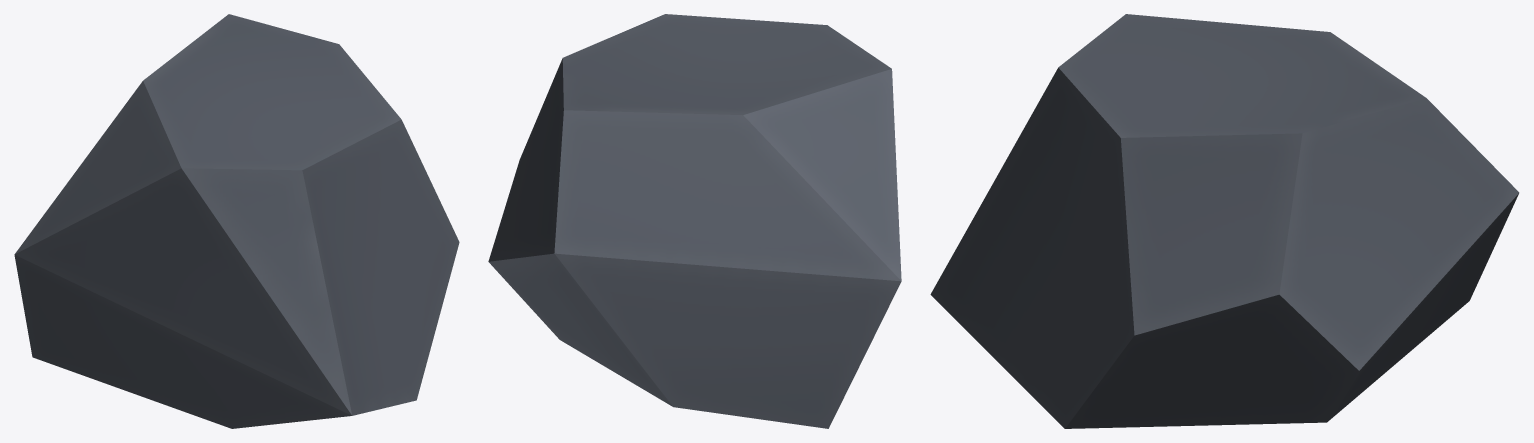
File: Rock2.fbx
The picture shows the model from 3 angles, left to right: view 1: azimuth 30°, elevation 25°; view 2: azimuth 150°, elevation 25°; view 3: azimuth 270°, elevation 25°; orthographic projection. The views are drawn at different scales.
Visible parts, largest first — view 1: Rock2; view 2: Rock2; view 3: Rock2.
Boxes of the visible parts, x1,y1,x2,y2 form: Rock2: (14, 14, 459, 428); Rock2: (488, 14, 901, 428); Rock2: (930, 14, 1519, 428).
Size of the model in its own units: 2.95 by 2.09 by 3.54.
1 material, 1 textured.
